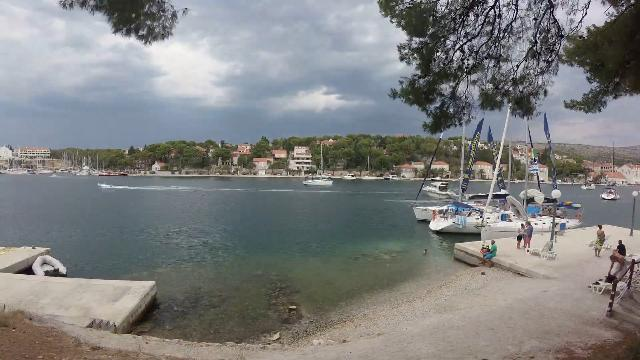Sailboat: (298, 173, 336, 189)
ferry: (420, 176, 458, 200)
speedboat: (95, 179, 117, 190)
